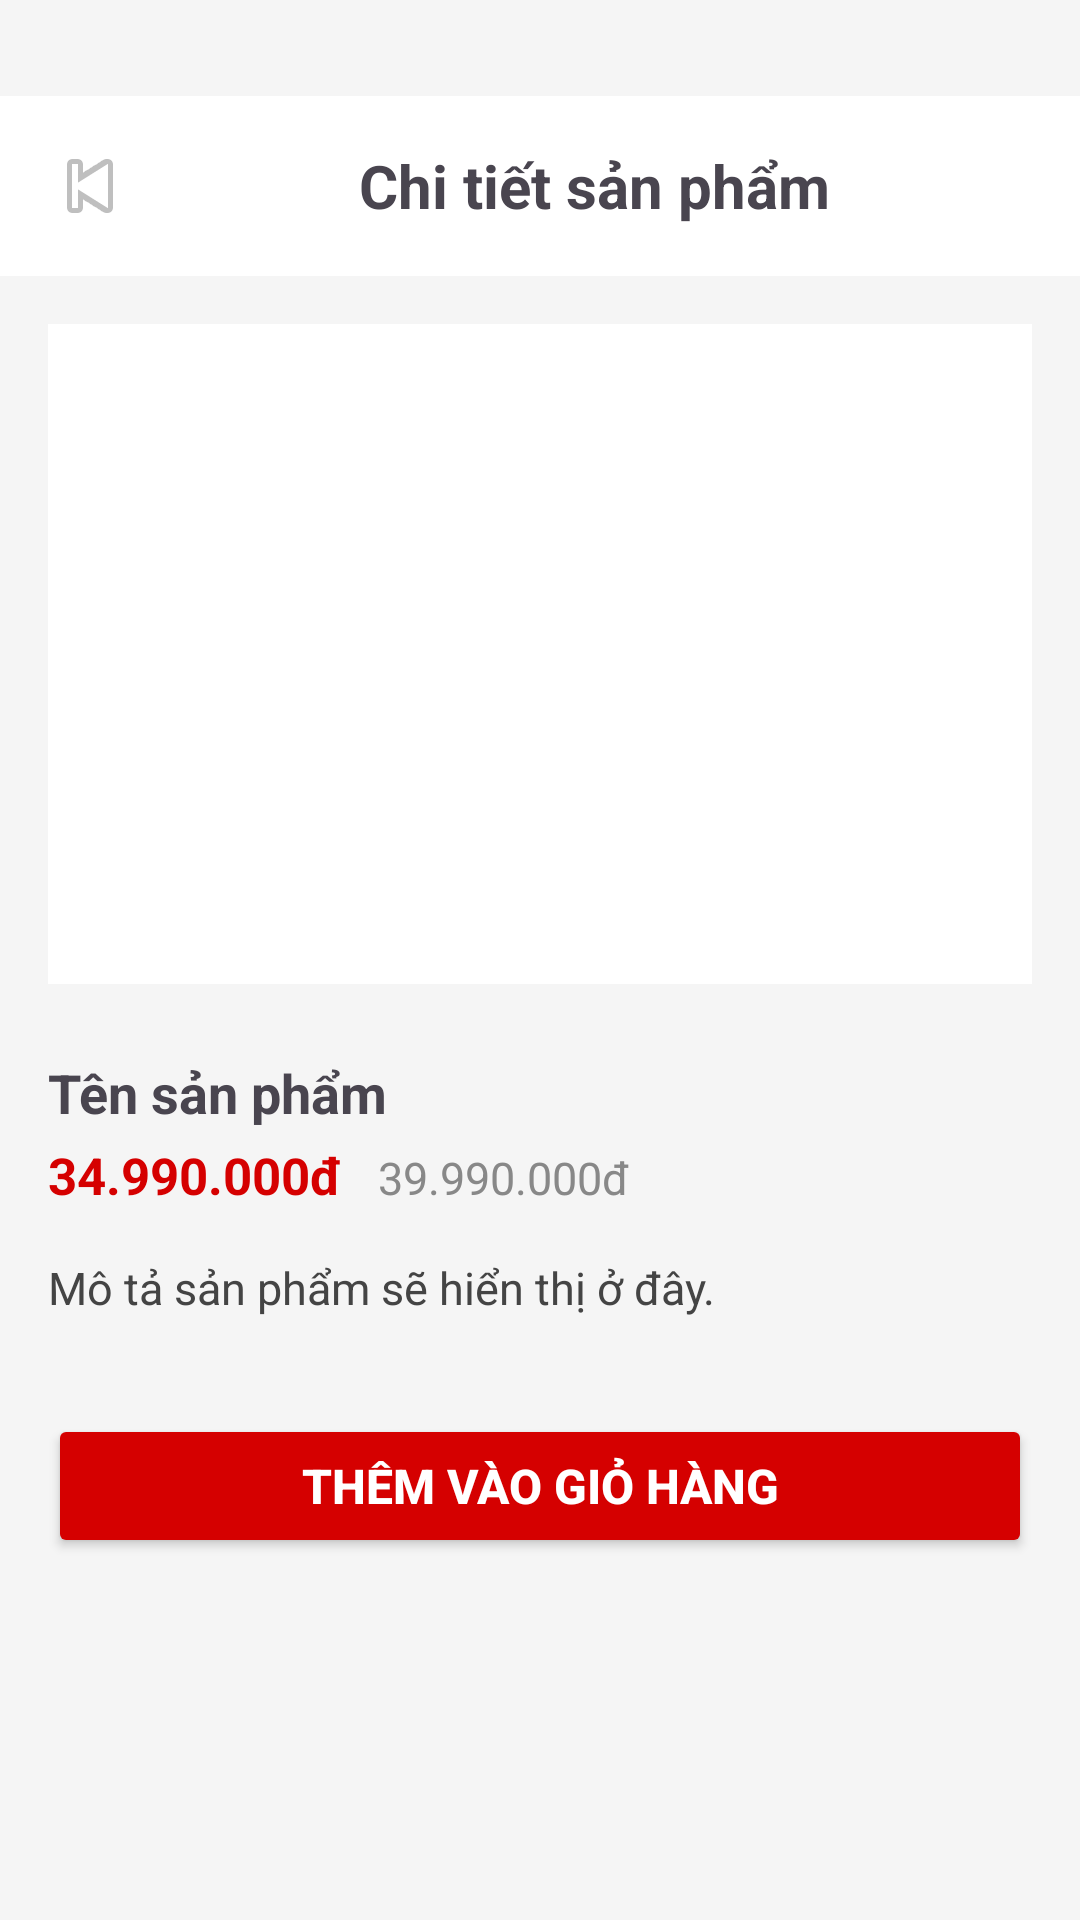

Point at icon controls on the screen. Image size 1080x1920, points as [x,y].
Back: [90,186]
